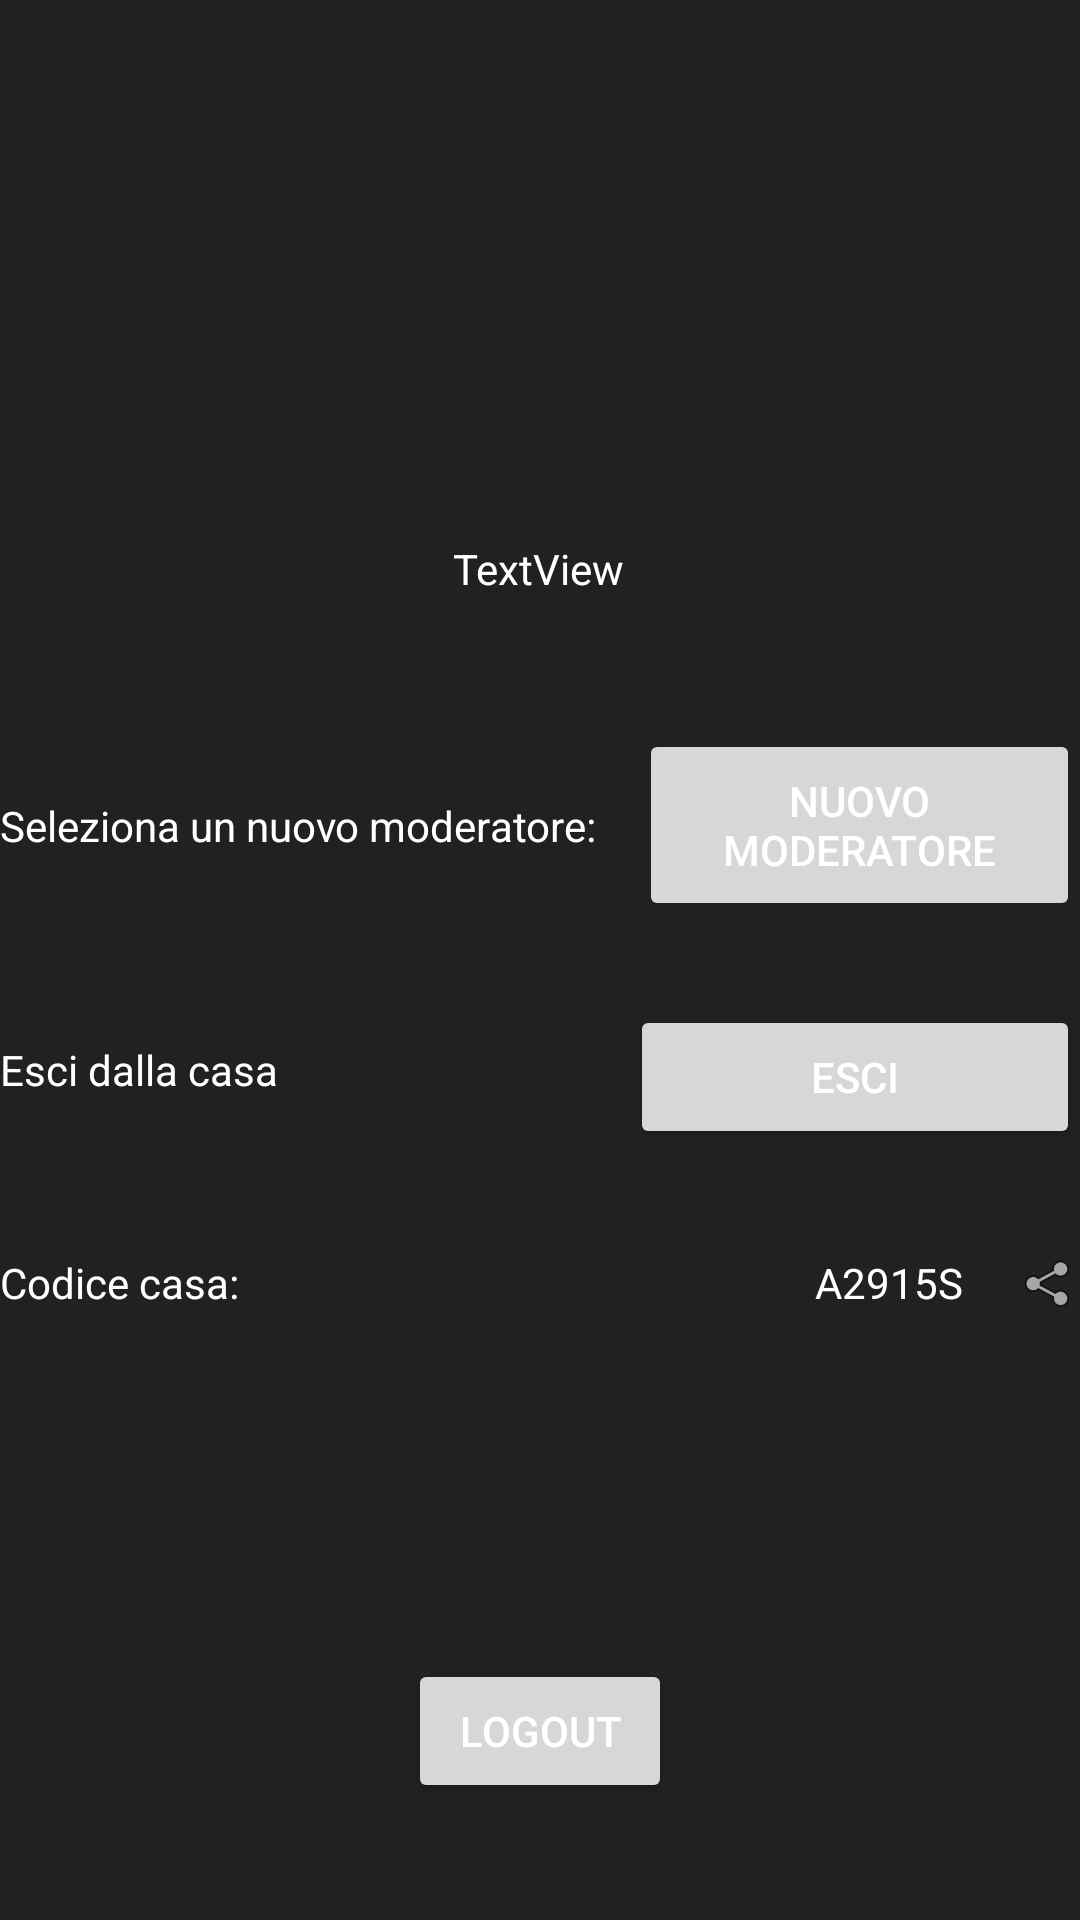

Screen size 1080 x 1920. Icon name, then its center in pixels as (x=x, y=y):
share: (x=1047, y=1283)
